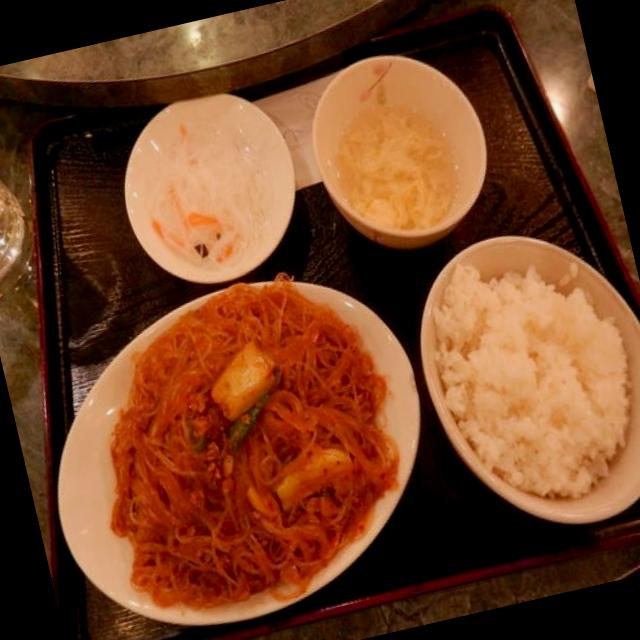Rice: (417, 220, 640, 528)
